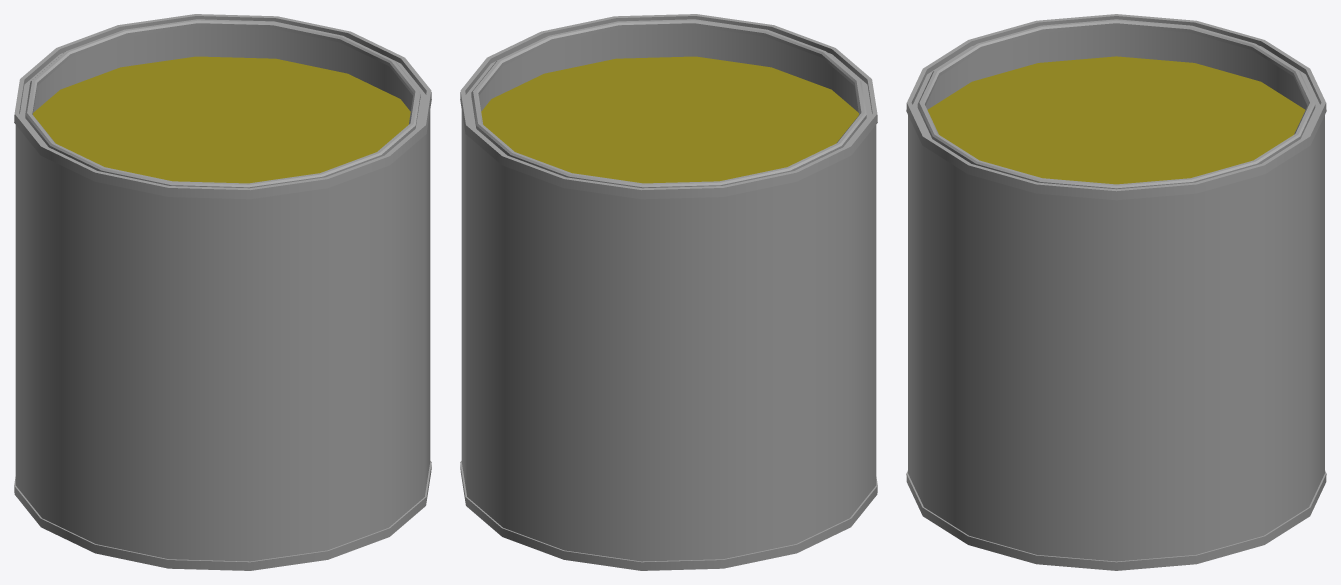
Rendered from PaintCan_Yellow.fbx.
3 renders of one model, left to right at view 1: azimuth 30°, elevation 25°; view 2: azimuth 150°, elevation 25°; view 3: azimuth 270°, elevation 25°, orthographic.
Visible parts, largest first — view 1: Cylinder, Cylinder.001; view 2: Cylinder, Cylinder.001; view 3: Cylinder, Cylinder.001.
Boxes of the visible parts, <box> form: Cylinder: <box>14,14,431,570</box>; Cylinder.001: <box>33,56,410,183</box>; Cylinder: <box>460,14,877,570</box>; Cylinder.001: <box>481,56,858,183</box>; Cylinder: <box>906,14,1326,570</box>; Cylinder.001: <box>927,56,1305,184</box>.
Size of the model in its own units: 40.32 by 40.22 by 40.32.
